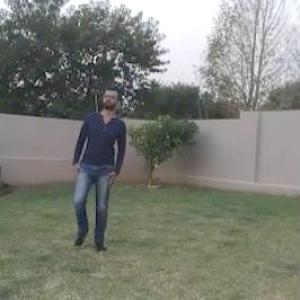follow: (69, 82, 127, 250)
